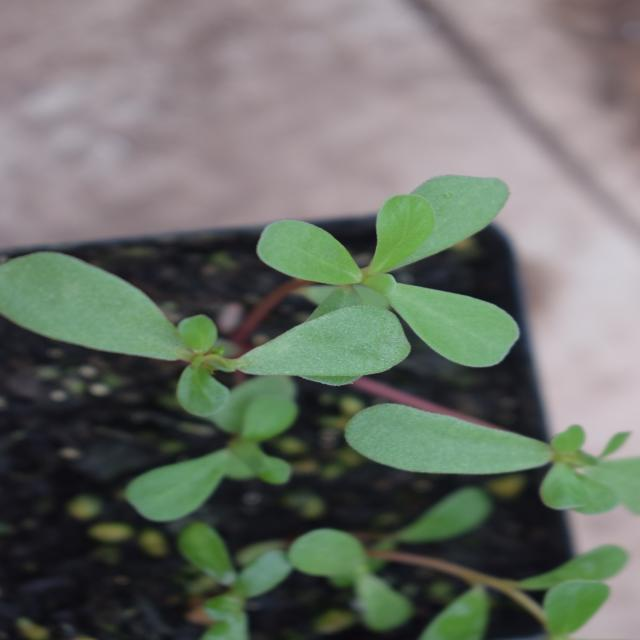purslane: (170, 2, 617, 560)
